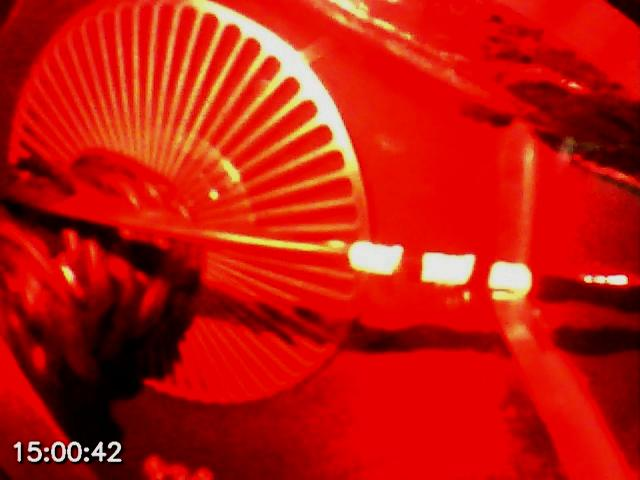white-dots: (347, 239, 533, 304)
